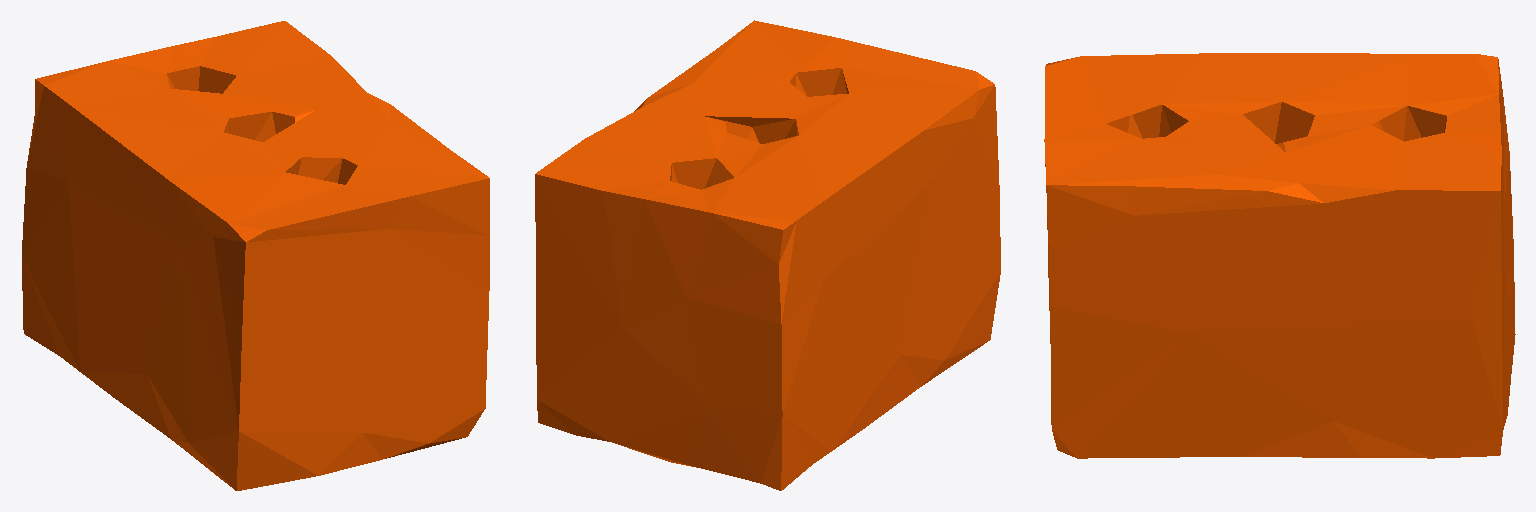
robot.urdf — 061_foam_brick:
<?xml version="1.0" ?>
<robot name="061_foam_brick">
   <material name="obj_color">
      <color rgba="1.0 0.423529411765 0.0392156862745 1.0"/>
   </material>
   <link name="top">
      <inertial>
         <origin rpy="0.0001516733659362696 0.0002449412440864355 0.0002506946795313724" xyz="-0.0001560998534371638 -0.0002822964047946295 0.007807823604819123"/>
         <mass value="0.3627459709303651"/>
         <inertia ixx="0.0002449283604556295" ixy="-1.467546334548638e-06" ixz="-2.144519307279964e-07" iyy="0.0001517280228001745" iyz="1.770858059309664e-06" izz="0.0002506529062982734"/>
      </inertial>
      <visual>
         <origin rpy="0 0 0" xyz="0 0 0"/>
         <geometry>
            <mesh filename="top_watertight_tiny.stl" scale="1 1 1"/>
         </geometry>
         <material name="obj_color"/>
      </visual>
      <collision>
         <origin rpy="0 0 0" xyz="0 0 0"/>
         <geometry>
            <mesh filename="top_watertight_tiny.obj" scale="1 1 1"/>
         </geometry>
      </collision>
   </link>
   <link name="bottom">
      <inertial>
         <origin rpy="1.633333333199431e-08 1.633333333199431e-08 1.633333333362855e-08" xyz="0.3464080000000008 0.3464080000000008 0.3464080000000008"/>
         <mass value="0.0009800000000000017"/>
         <inertia ixx="1.633333333253906e-08" ixy="5.447480642029219e-19" ixz="5.447480642029219e-19" iyy="1.633333333253906e-08" iyz="5.447480642029219e-19" izz="1.633333333253906e-08"/>
      </inertial>
      <visual>
         <origin rpy="0 0 0" xyz="0 0 0"/>
         <geometry>
            <mesh filename="bottom_watertight_tiny.stl" scale="1 1 1"/>
         </geometry>
         <material name="obj_color"/>
      </visual>
   </link>
   <joint name="rotation" type="revolute">
      <origin xyz="0 0 0"/>
      <axis xyz="0 0 -1"/>
      <parent link="bottom"/>
      <child link="top"/>
      <dynamics damping="1.0" friction="1.0"/>
      <limit effort="0.1" velocity="0.1" lower="0" upper="0.001"/>
   </joint>
</robot>

--- Render facts (derived) ---
3 views of the same robot in one strip: view 1: azimuth 30°, elevation 25°; view 2: azimuth 150°, elevation 25°; view 3: azimuth 270°, elevation 25° (orthographic).
Robot: 061_foam_brick — 2 links, 1 joints (1 revolute); root link bottom; default pose: all joints at 0.
Links seen in each view (by area): view 1: top; view 2: top; view 3: top.
Link boxes in pixels (left/top/right/bottom): top: left=22, top=21, right=489, bottom=490; top: left=535, top=20, right=1000, bottom=490; top: left=1044, top=53, right=1515, bottom=458.
Size in the robot's own frame: 0.0523 by 0.0775 by 0.0508 metres.
1 mesh visuals loaded from 2 distinct referenced files (1 binary STL); not drawn: 1 (reference not matched to a file when rendering).